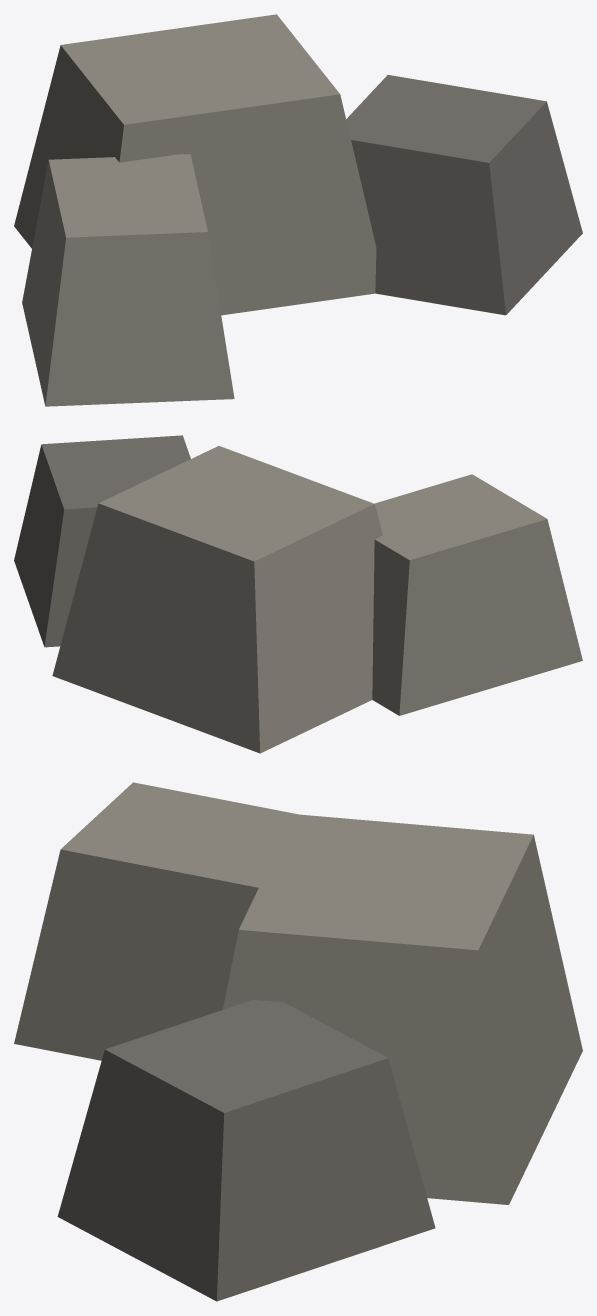
The model's file is stones_3.glb.
3 renders of one model, top to bottom at view 1: azimuth 30°, elevation 25°; view 2: azimuth 150°, elevation 25°; view 3: azimuth 270°, elevation 25°, orthographic. The views are drawn at different scales.
Visible parts, largest first — view 1: stones_3; view 2: stones_3; view 3: stones_3.
Part boxes in pixels (box(x1,y1,x2,y2)): stones_3: box(14, 14, 582, 406); stones_3: box(14, 435, 582, 753); stones_3: box(14, 782, 582, 1301).
Bounding box in the file's own units: 3.53 × 1.1 × 2.44.
1 material, 1 textured.
